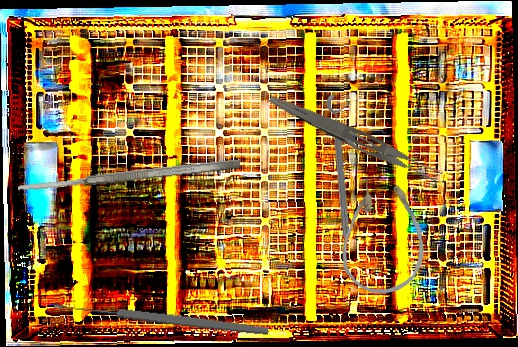Cannula: (340, 175, 427, 295)
Dressing Forceps: (264, 91, 446, 188)
Fixation Ring: (325, 93, 362, 238)
Spatula Surgical: (16, 157, 242, 194)
Surgical Spoon: (53, 298, 269, 338)
